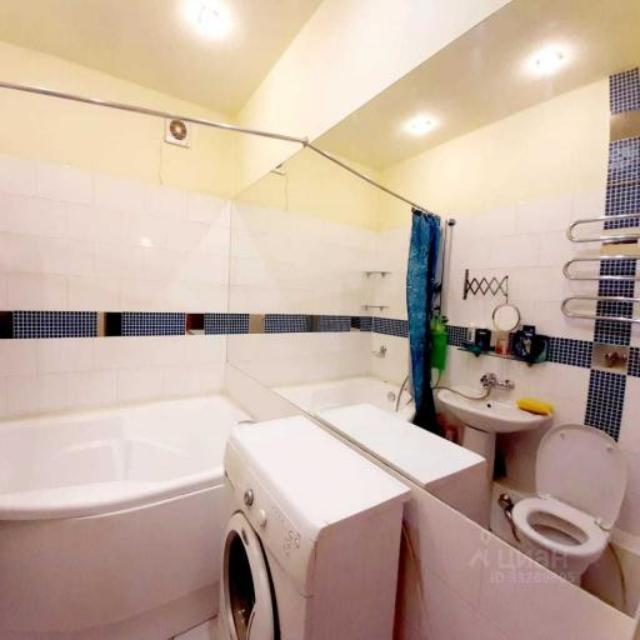Washing-Machine: (221, 415, 411, 640)
